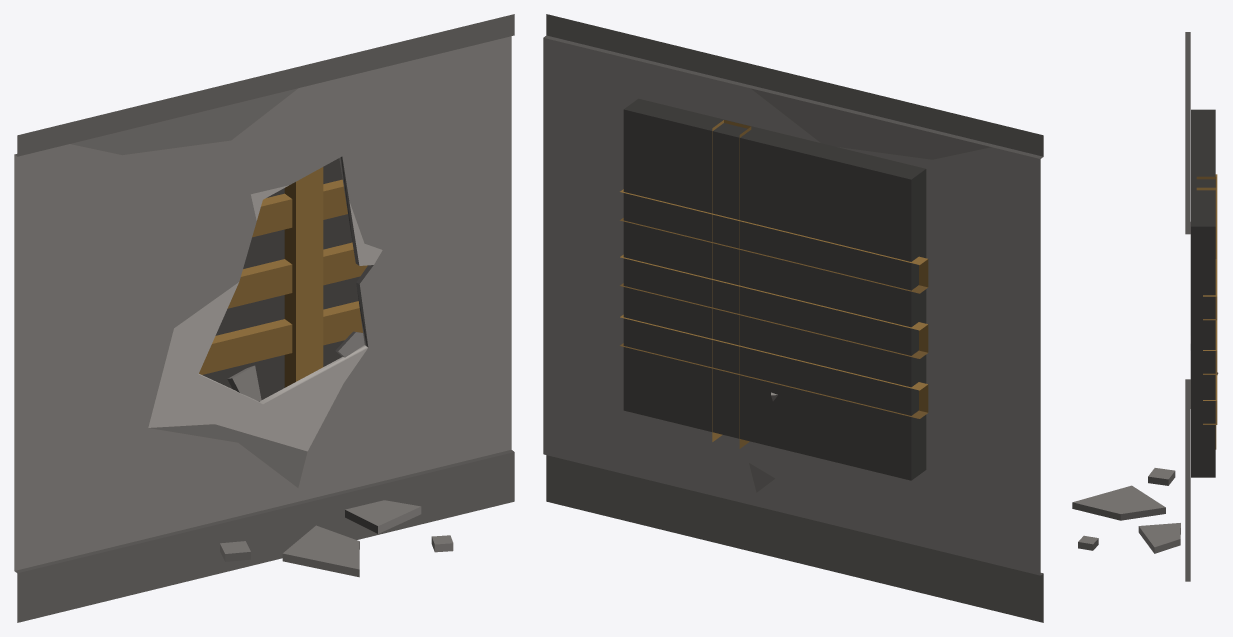
Rendered from AI_Env_Wall_Grey_Hole_Large.fbx.
3 renders of one model, left to right at view 1: azimuth 30°, elevation 25°; view 2: azimuth 150°, elevation 25°; view 3: azimuth 270°, elevation 25°, orthographic. The views are drawn at different scales.
Visible parts, largest first — view 1: AI_Env_Wall_Hole_Large; view 2: AI_Env_Wall_Hole_Large; view 3: AI_Env_Wall_Hole_Large.
Boxes of the visible parts, <box> form: AI_Env_Wall_Hole_Large: <box>14,14,514,622</box>; AI_Env_Wall_Hole_Large: <box>543,14,1043,622</box>; AI_Env_Wall_Hole_Large: <box>1072,32,1218,581</box>.
Size of the model in its own units: 5 by 4.69 by 1.53.
